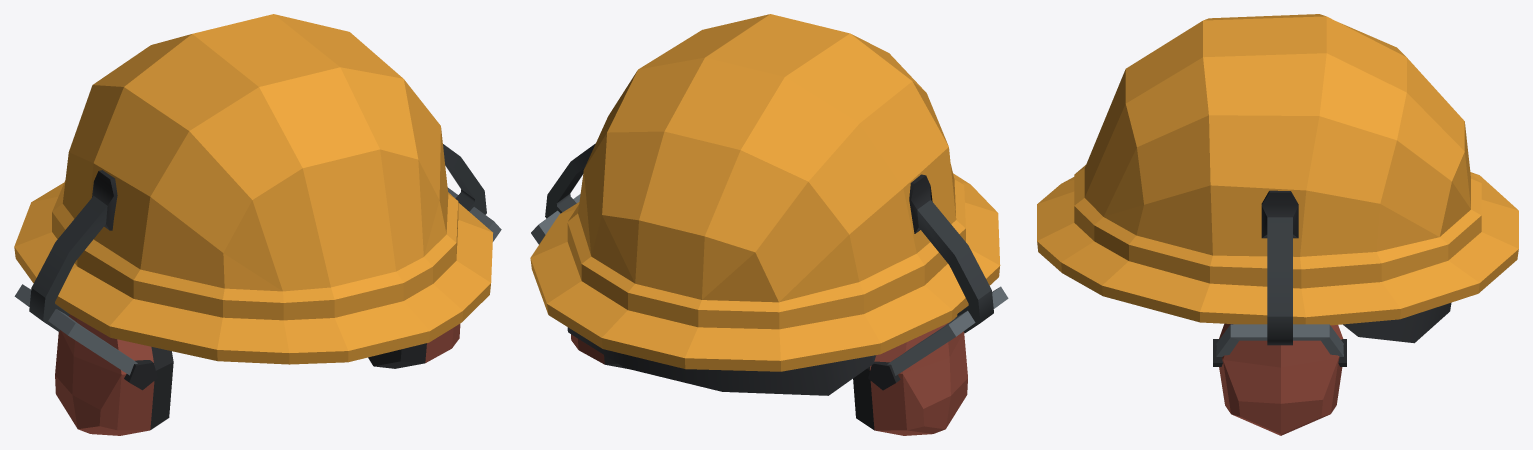
File: SM_Chr_Attach_Helmet_Earmuffs_02.fbx
3 renders of one model, left to right at view 1: azimuth 30°, elevation 25°; view 2: azimuth 150°, elevation 25°; view 3: azimuth 270°, elevation 25°, orthographic. The views are drawn at different scales.
Visible parts, largest first — view 1: SM_Chr_Attach_Helmet_Earmuffs_02; view 2: SM_Chr_Attach_Helmet_Earmuffs_02; view 3: SM_Chr_Attach_Helmet_Earmuffs_02.
Boxes of the visible parts, x1=… form: SM_Chr_Attach_Helmet_Earmuffs_02: x1=14, y1=14, x2=501, y2=435; SM_Chr_Attach_Helmet_Earmuffs_02: x1=530, y1=14, x2=1008, y2=435; SM_Chr_Attach_Helmet_Earmuffs_02: x1=1037, y1=14, x2=1518, y2=435.
Size of the model in its own units: 39.95 by 30.99 by 40.52.
